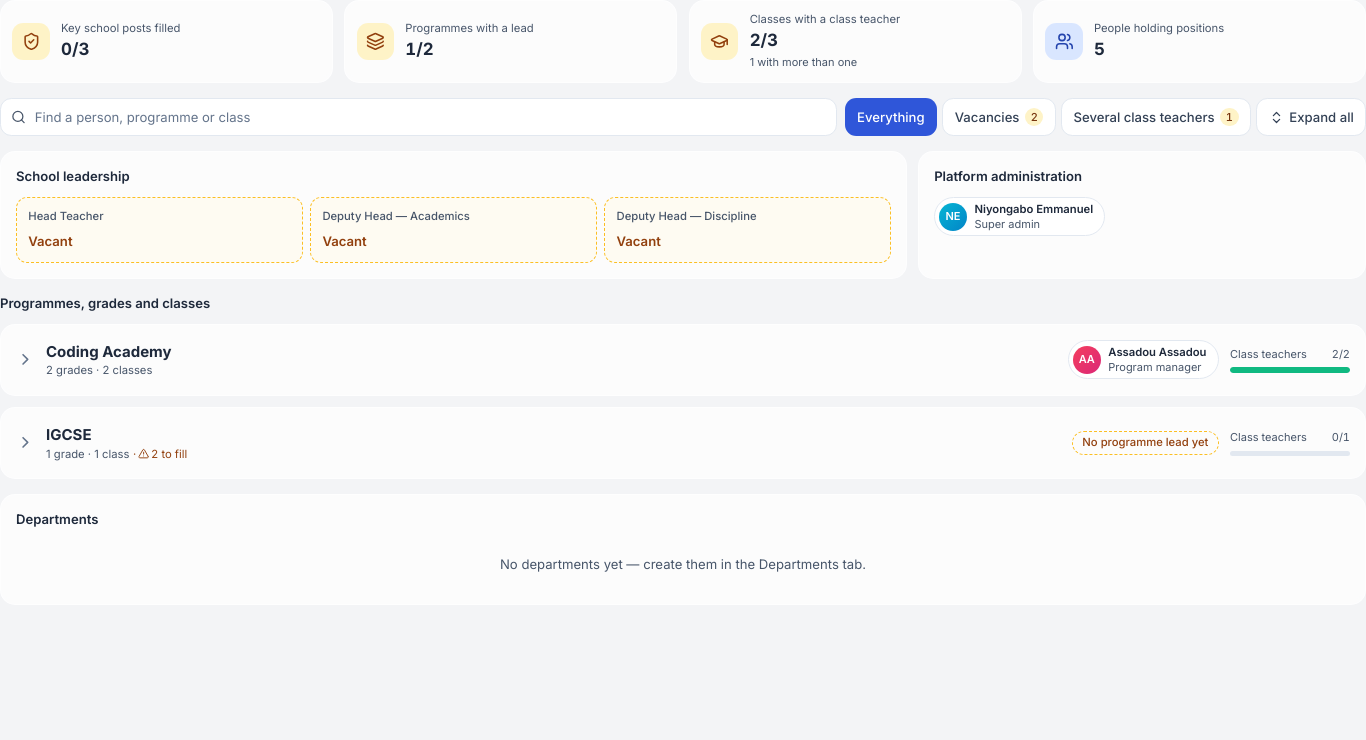
Test case: Structure tab › opens and closes a programme, and expands everything at once
The image size is (1366, 740).
Click the button "Coding Academy 2 grades · 2 classes": (109, 351) x1=16 y1=340 x2=1057 y2=380
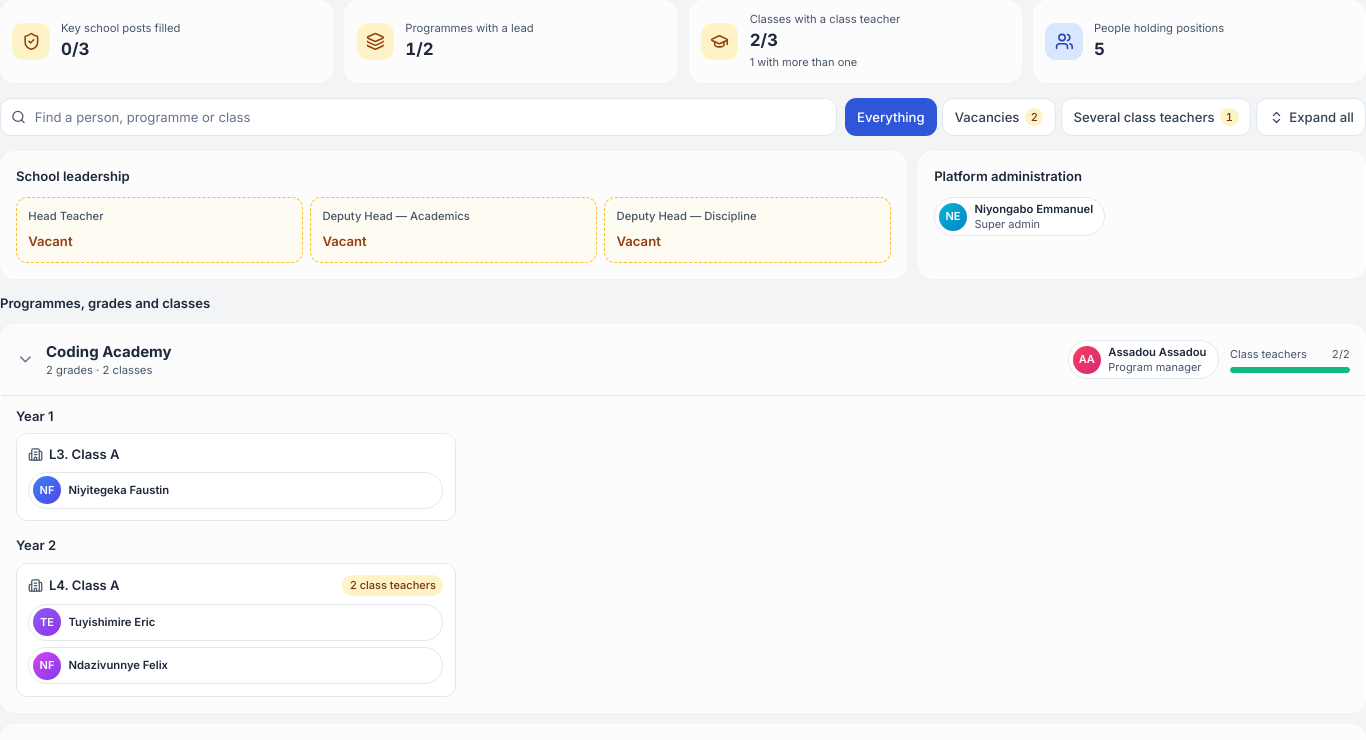
Expected: the button "Coding Academy 2 grades · 2 classes" is expanded, x1=16 y1=340 x2=1057 y2=380
Expected: the text "L4. Class A" is shown, x1=28 y1=576 x2=120 y2=595
Click the button "Expand all": (1311, 117) x1=1256 y1=98 x2=1365 y2=136
(page scrolled)
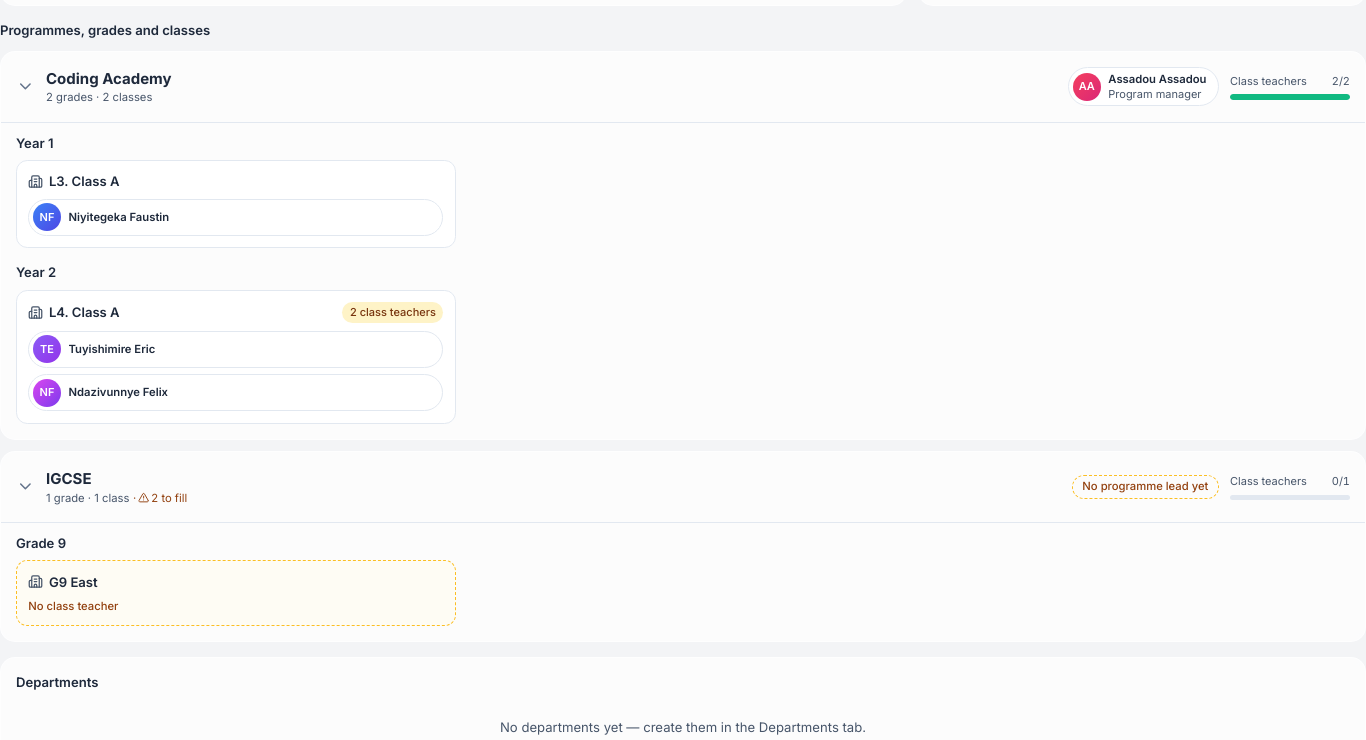
Expected: the button "IGCSE 1 grade · 1 class · 2 to fill" is expanded, x1=16 y1=467 x2=1061 y2=507
